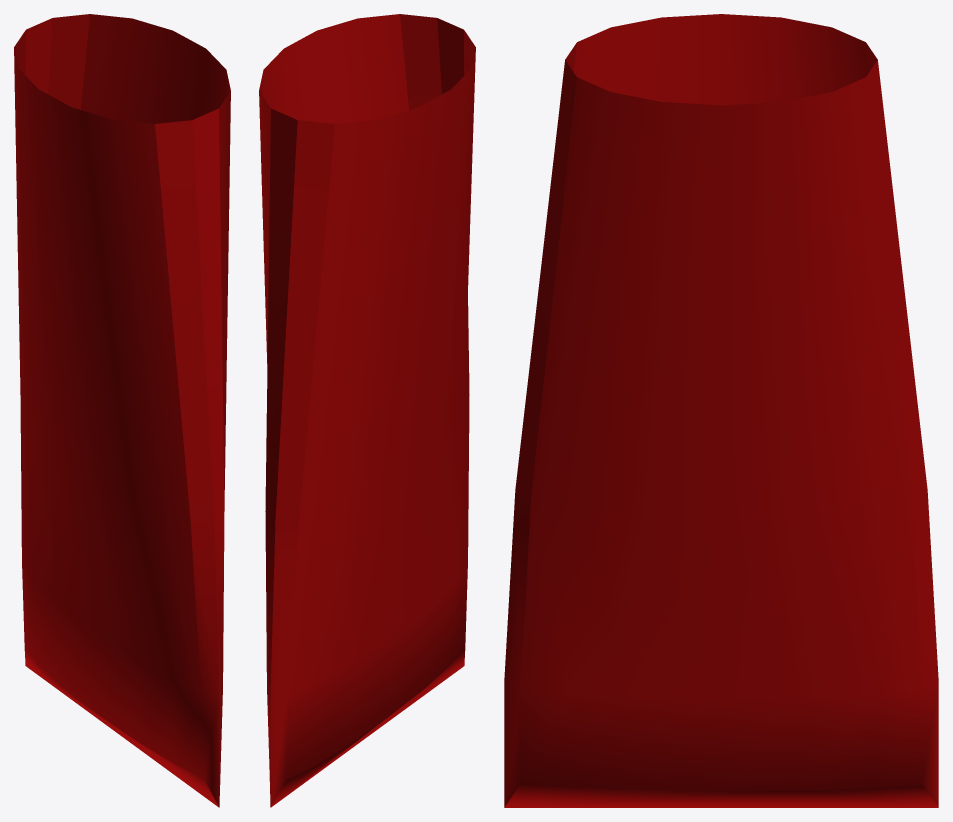
Rendered from brushTip_03.fbx.
3 renders of one model, left to right at view 1: azimuth 30°, elevation 25°; view 2: azimuth 150°, elevation 25°; view 3: azimuth 270°, elevation 25°, orthographic. The views are drawn at different scales.
Visible parts, largest first — view 1: brush_tip_03; view 2: brush_tip_03; view 3: brush_tip_03.
Boxes of the visible parts, left/top/right/bottom form: brush_tip_03: left=14, top=14, right=230, bottom=807; brush_tip_03: left=259, top=14, right=475, bottom=807; brush_tip_03: left=504, top=14, right=938, bottom=807.
Size of the model in its own units: 0.1283 by 0.4895 by 0.2576.
